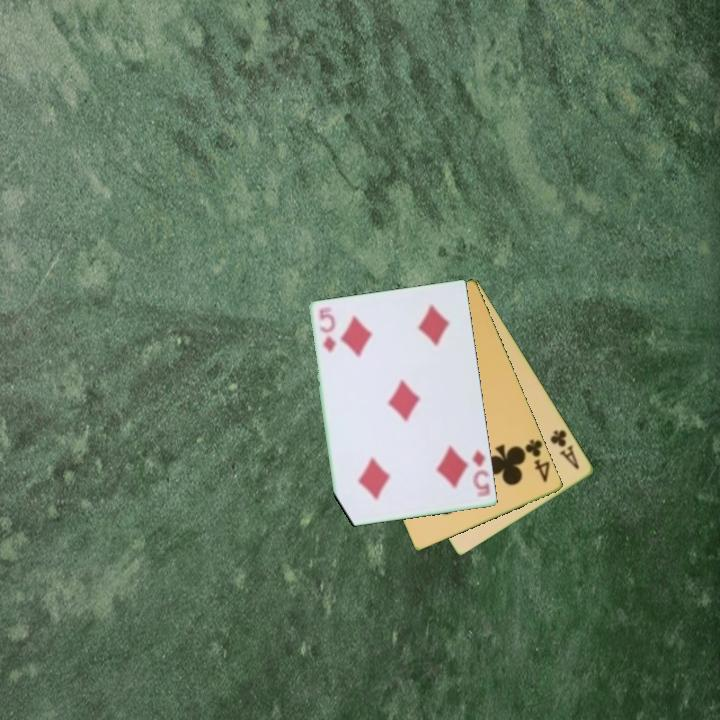4c: (522, 435, 553, 485)
5d: (469, 446, 493, 501), (316, 305, 338, 356)
Ac: (547, 426, 583, 473)
